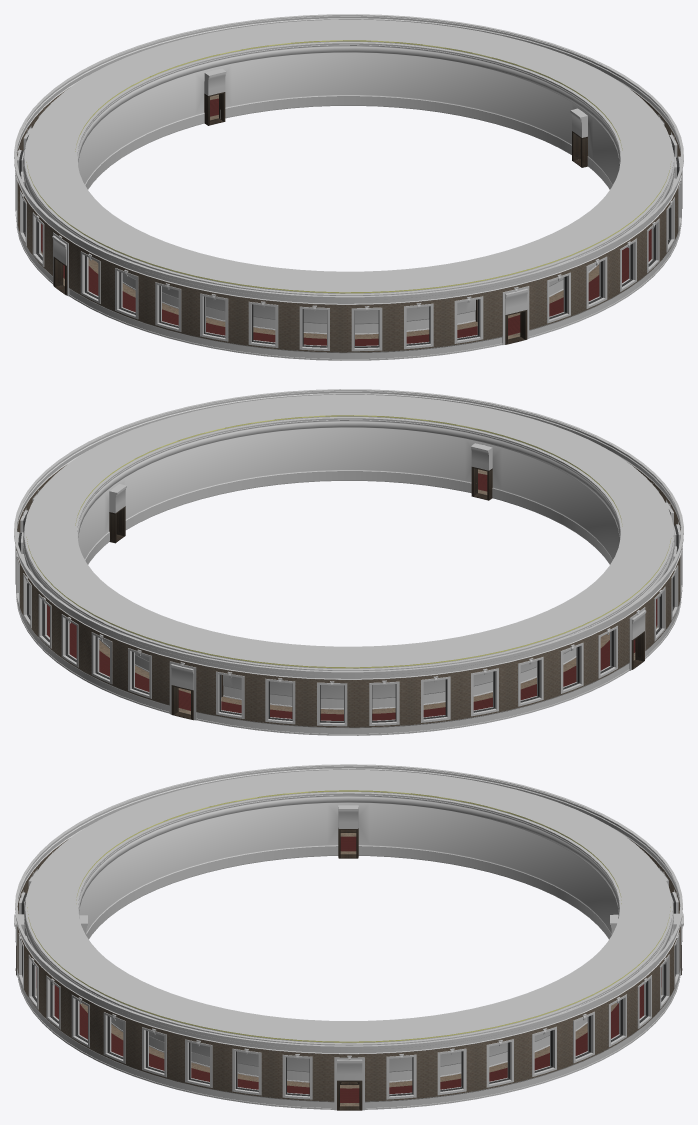
The model's file is Royal_Hall_Section_2.FBX.
3 renders of one model, top to bottom at view 1: azimuth 30°, elevation 25°; view 2: azimuth 150°, elevation 25°; view 3: azimuth 270°, elevation 25°, orthographic.
Visible parts, largest first — view 1: Royal_Hall_Section_2; view 2: Royal_Hall_Section_2; view 3: Royal_Hall_Section_2.
Boxes of the visible parts, x1,y1,x2,y2 form: Royal_Hall_Section_2: [14, 14, 683, 360]; Royal_Hall_Section_2: [14, 389, 683, 735]; Royal_Hall_Section_2: [14, 764, 683, 1110].
Size of the model in its own units: 55.99 by 5.93 by 55.99.
